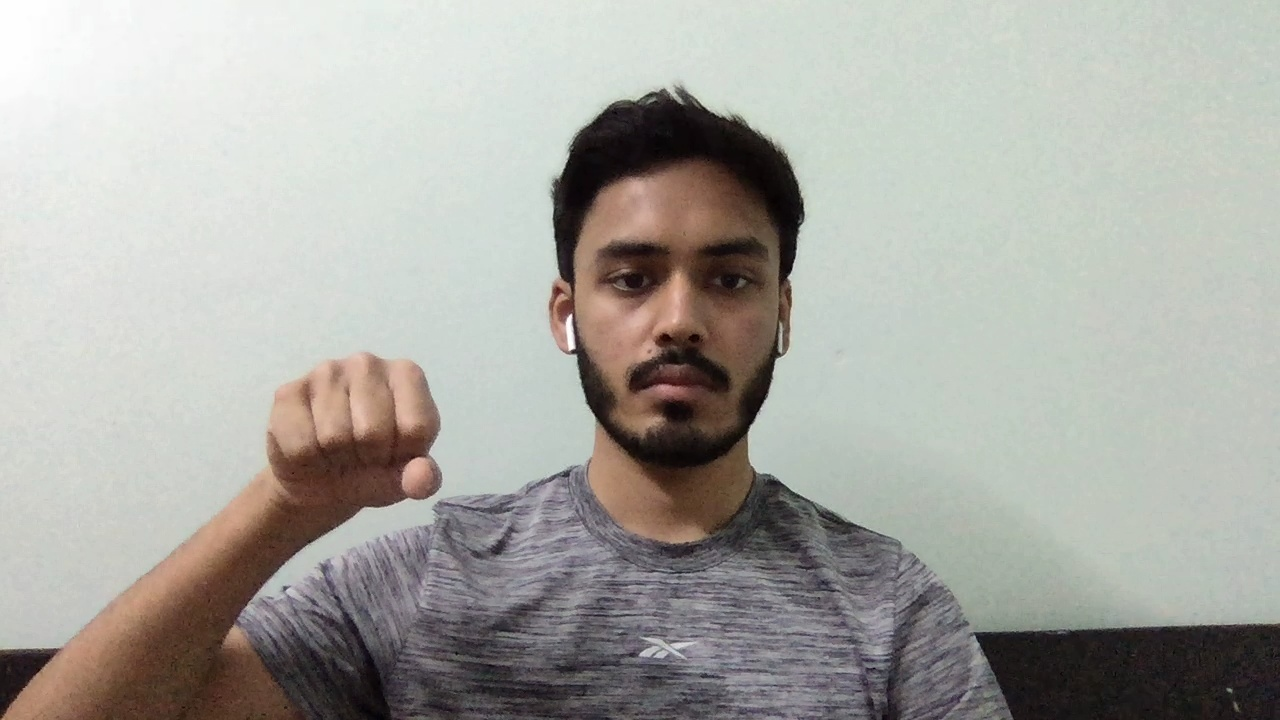Yes: (236, 342, 462, 532)
